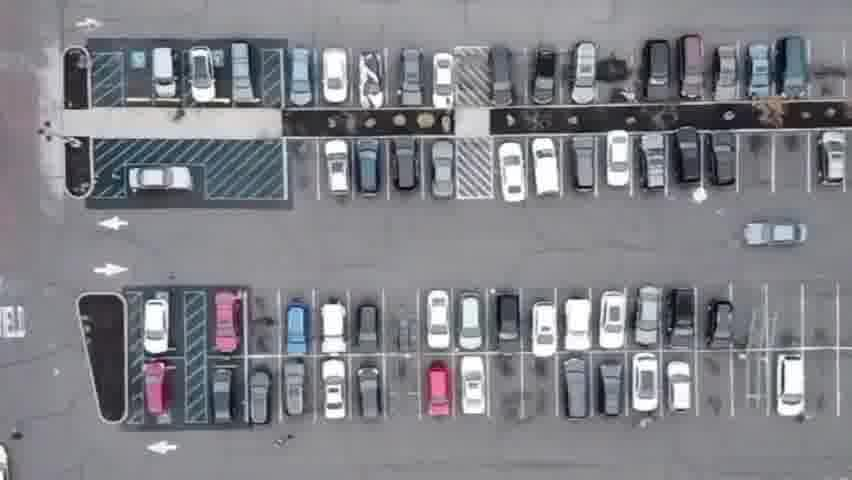car: (450, 287, 492, 349), (454, 355, 492, 422), (770, 358, 805, 428), (741, 218, 810, 252), (776, 39, 812, 104), (638, 42, 673, 107), (499, 142, 534, 207), (129, 160, 200, 192), (678, 35, 709, 104), (704, 131, 740, 190), (315, 360, 348, 424), (559, 364, 591, 430), (629, 355, 663, 417), (327, 139, 360, 202), (671, 128, 704, 191), (595, 361, 627, 424), (493, 293, 524, 358), (485, 46, 516, 110), (533, 138, 566, 198), (530, 301, 564, 359), (668, 289, 699, 352), (661, 360, 692, 423), (569, 138, 601, 199), (213, 285, 243, 350), (424, 285, 453, 350), (573, 44, 601, 111), (353, 364, 384, 424), (423, 358, 454, 418), (562, 299, 594, 357), (192, 47, 225, 103), (598, 294, 628, 355), (430, 140, 459, 202), (818, 135, 849, 193), (392, 136, 422, 195), (358, 139, 387, 200), (321, 301, 352, 358), (322, 46, 351, 106), (402, 51, 431, 111), (247, 365, 275, 427), (152, 46, 183, 102), (642, 134, 671, 193), (141, 356, 170, 415), (230, 44, 259, 102), (745, 45, 774, 103), (704, 302, 734, 358), (210, 362, 237, 424), (145, 292, 173, 351), (291, 46, 318, 107), (531, 45, 557, 108), (433, 56, 460, 116), (634, 287, 659, 351), (356, 50, 384, 107), (283, 359, 310, 418), (607, 130, 633, 191), (283, 302, 312, 355), (714, 46, 739, 107), (358, 305, 382, 358)
